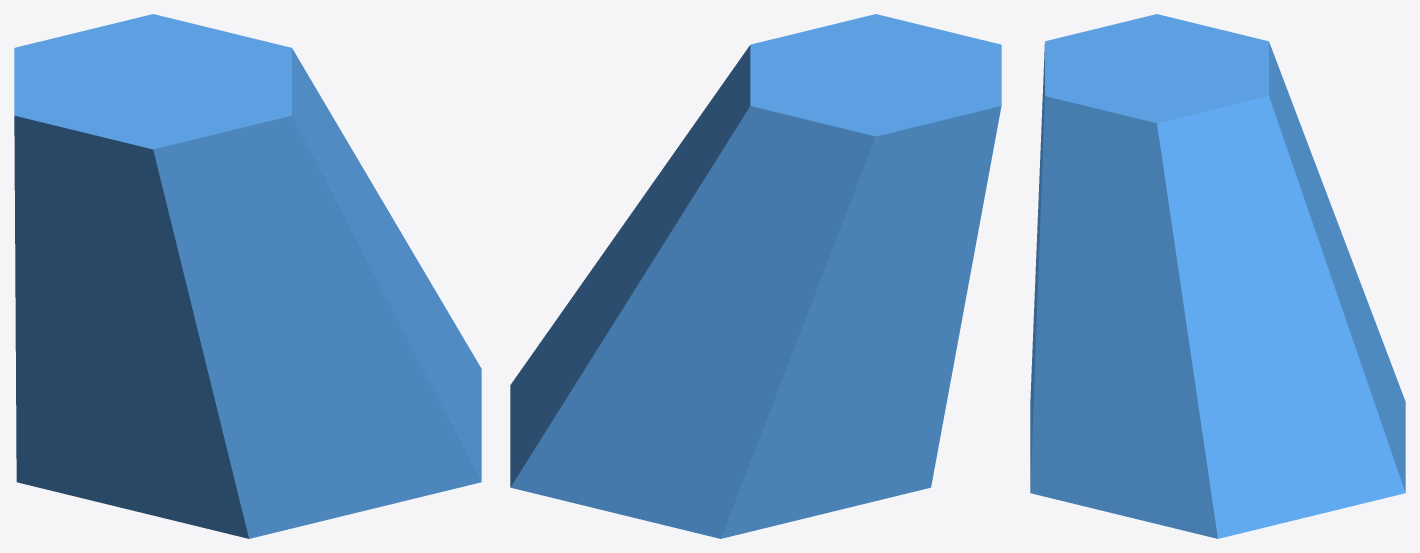
Rendered from rock1.fbx.
3 views of the same model, side by side, from view 1: azimuth 30°, elevation 25°; view 2: azimuth 150°, elevation 25°; view 3: azimuth 270°, elevation 25° (orthographic). The views are drawn at different scales.
Visible parts, largest first — view 1: Cylinder.877; view 2: Cylinder.877; view 3: Cylinder.877.
Boxes of the visible parts, x1,y1,x2,y2 form: Cylinder.877: (14,14,481,538); Cylinder.877: (510,14,1001,538); Cylinder.877: (1030,14,1405,538).
Size of the model in its own units: 217 by 166 by 173.
